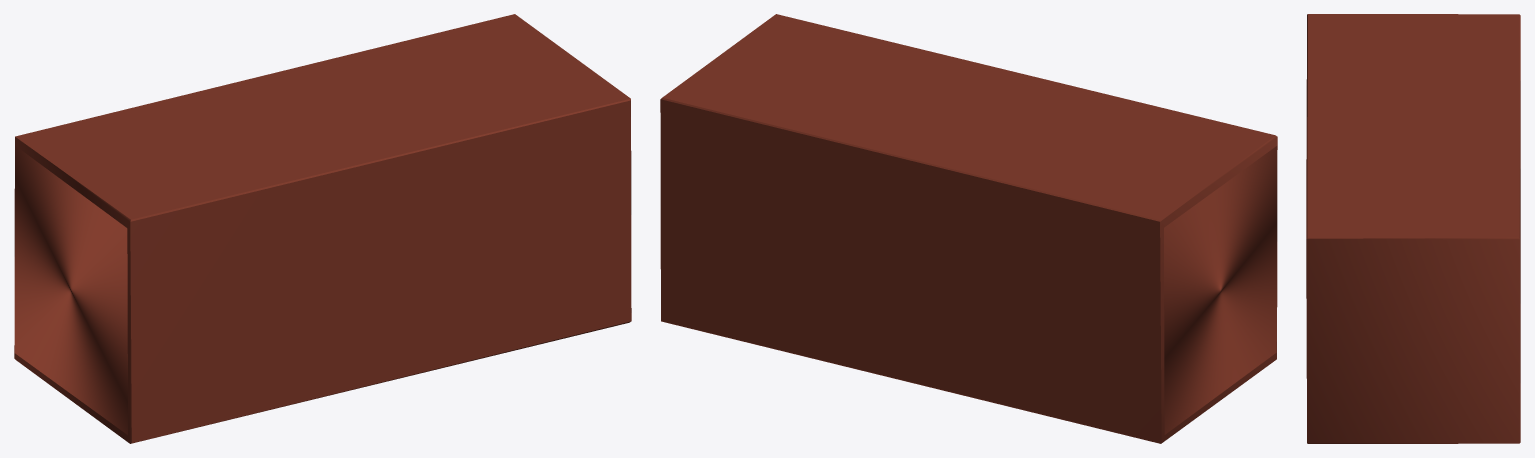
The model's file is container_red_LOD1.glb.
3 views of the same model, side by side, from view 1: azimuth 30°, elevation 25°; view 2: azimuth 150°, elevation 25°; view 3: azimuth 270°, elevation 25° (orthographic). The views are drawn at different scales.
Parts seen in each view (by area): view 1: Body_LOD1; view 2: Body_LOD1; view 3: Body_LOD1.
Boxes of the visible parts, x1=… form: Body_LOD1: x1=14, y1=14, x2=631, y2=443; Body_LOD1: x1=660, y1=14, x2=1277, y2=443; Body_LOD1: x1=1306, y1=14, x2=1520, y2=443.
Size of the model in its own units: 6.07 by 2.59 by 2.44.
